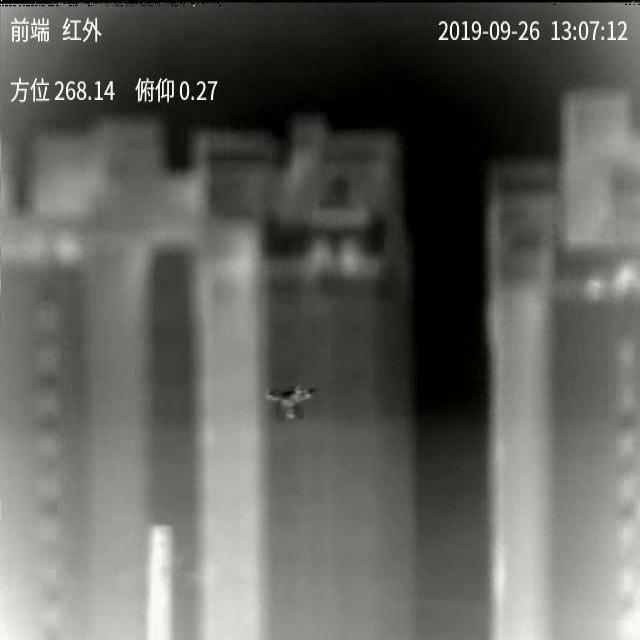drone: (267, 386, 317, 420)
